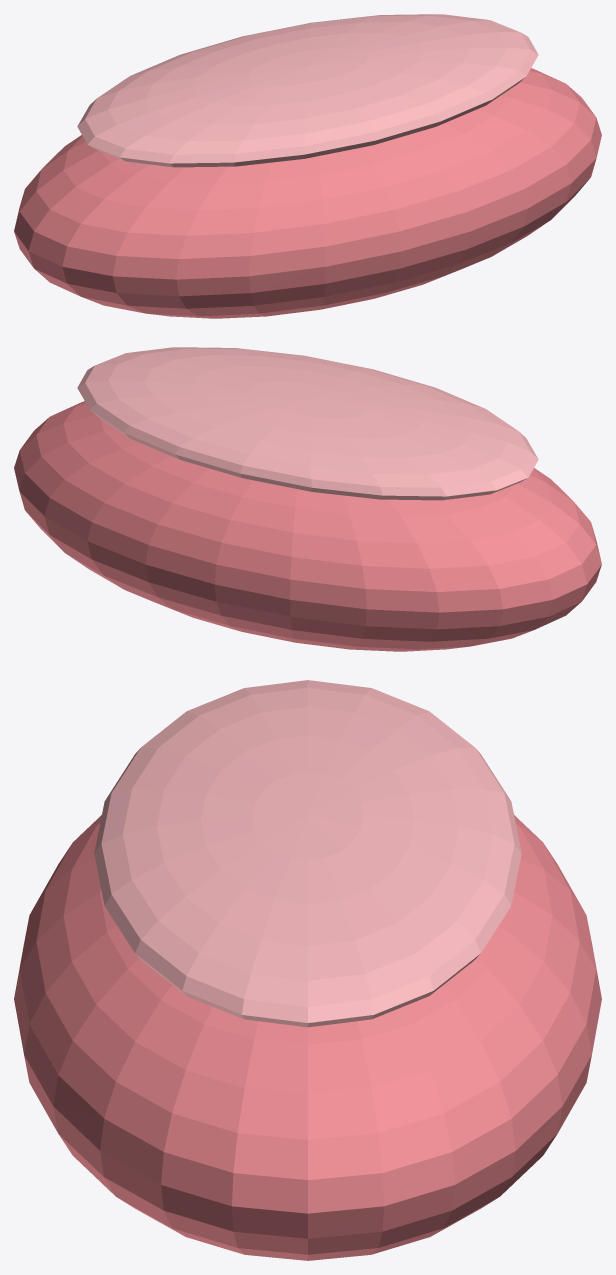
The model's file is soap_bar.obj.
3 renders of one model, top to bottom at view 1: azimuth 30°, elevation 25°; view 2: azimuth 150°, elevation 25°; view 3: azimuth 270°, elevation 25°, orthographic. The views are drawn at different scales.
Bounding box in the file's own units: 1.9 × 0.69 × 1.1.
